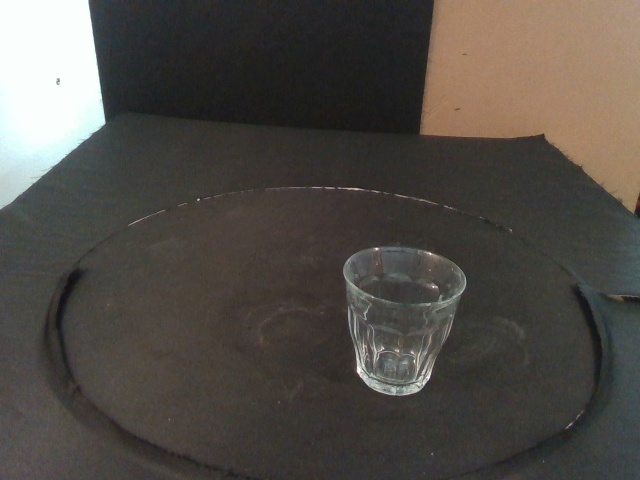glass: (342, 247, 468, 397)
